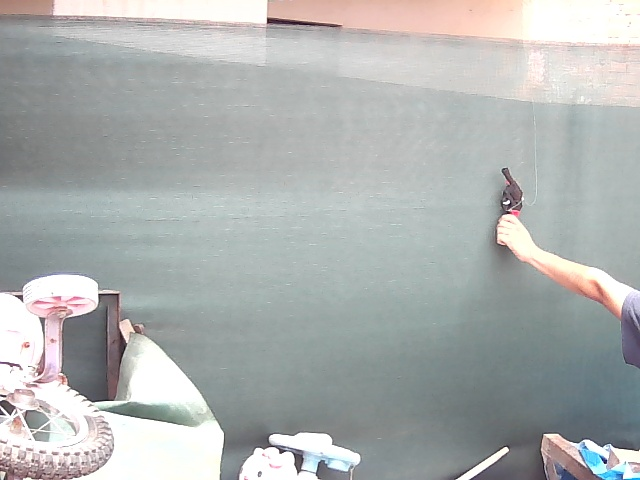pistola: (494, 164, 533, 215)
